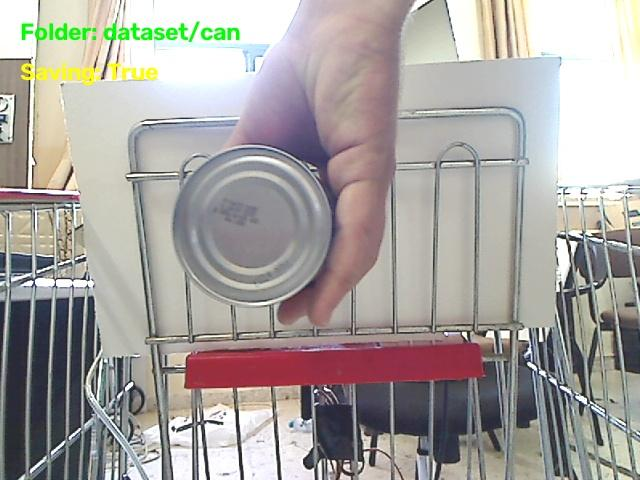can: (173, 146, 332, 305)
